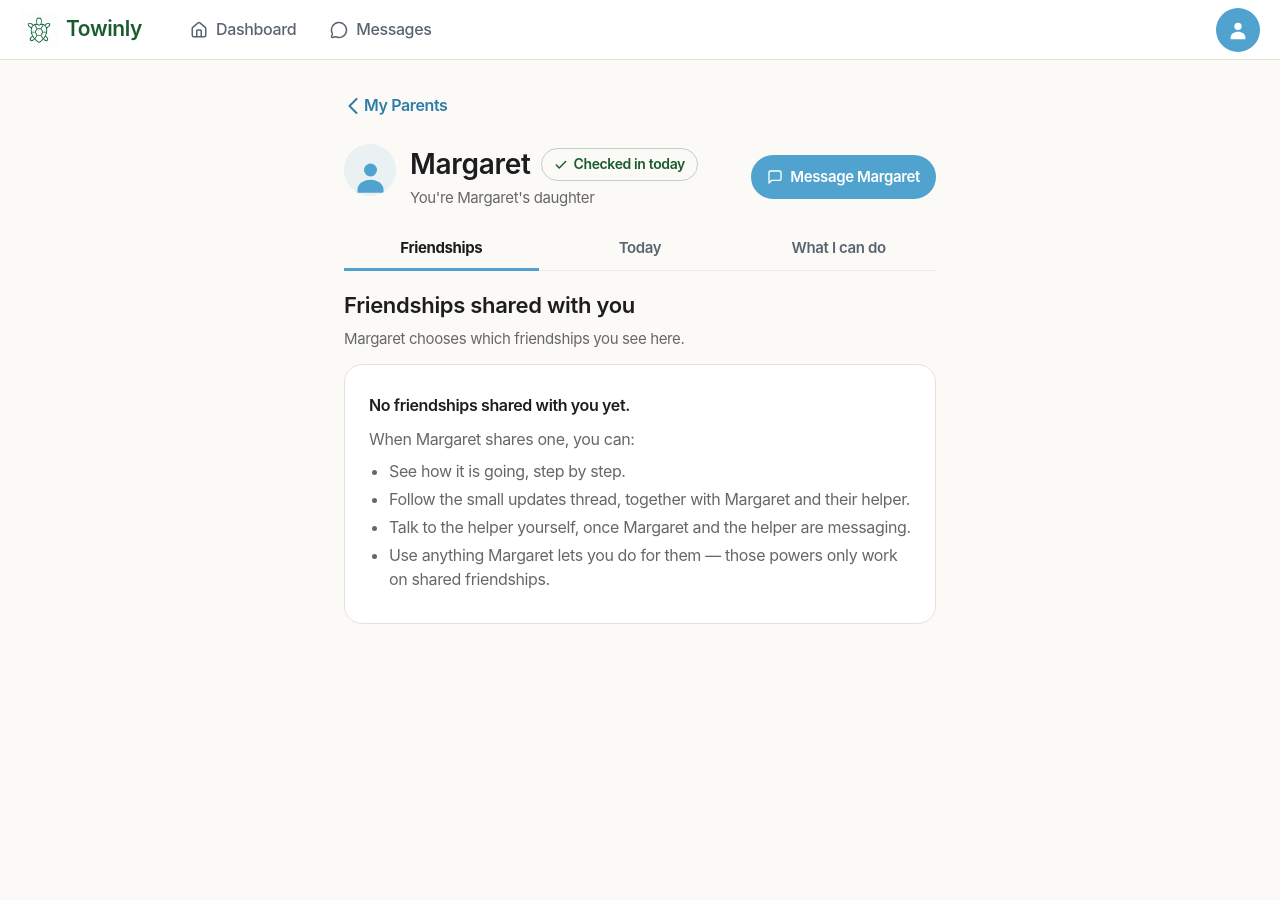
Scenario: FamilyParent — what I can do (consent flow) › explains what a shared friendship gives you, once, on this tab
Expected: the text "on a friendship margaret shares, you can" is not shown
Click the tab "What I can do".
click(839, 249)  # box [741,227,936,271]
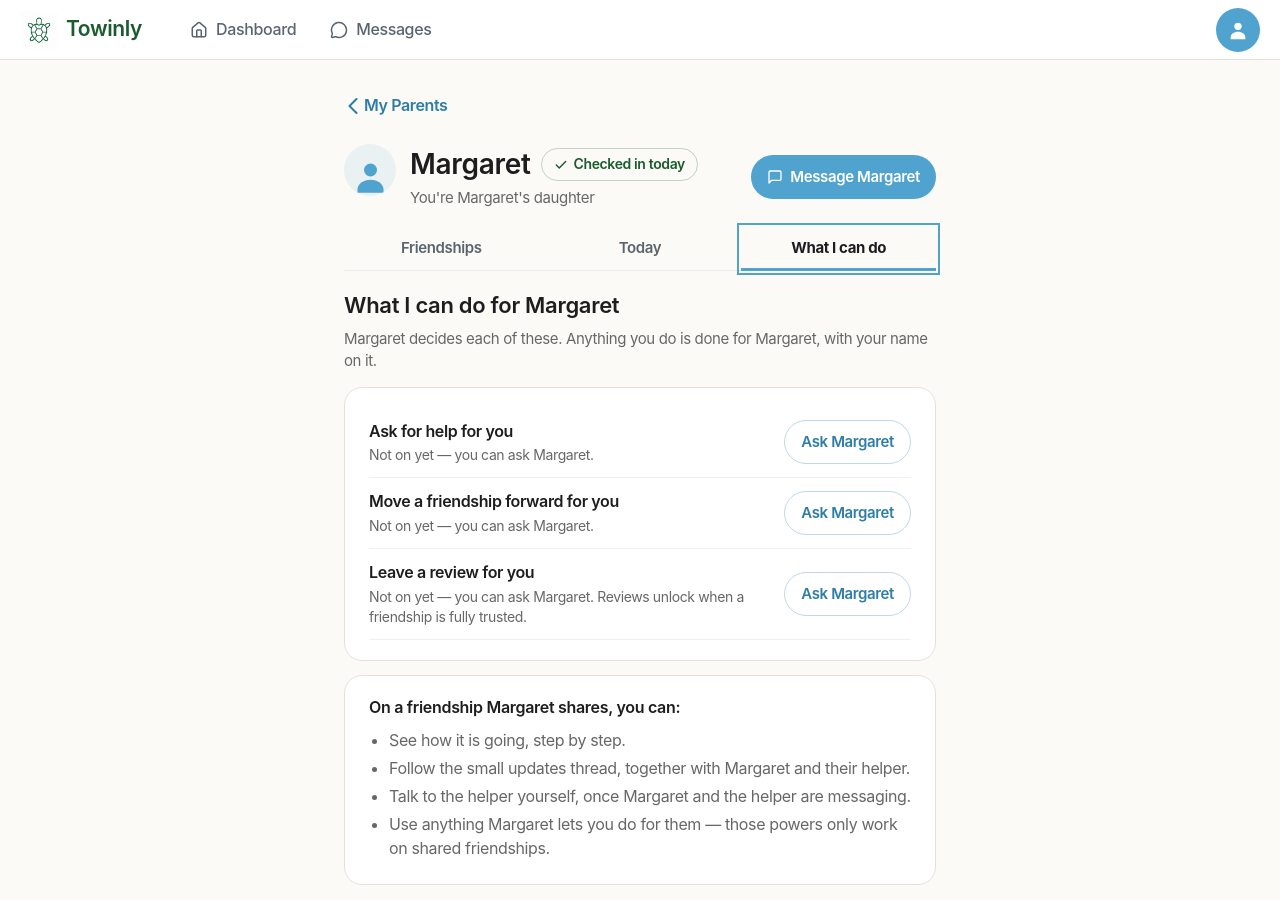
Result: the heading "On a friendship Margaret shares, you can:" is shown at [369,697,680,717]
